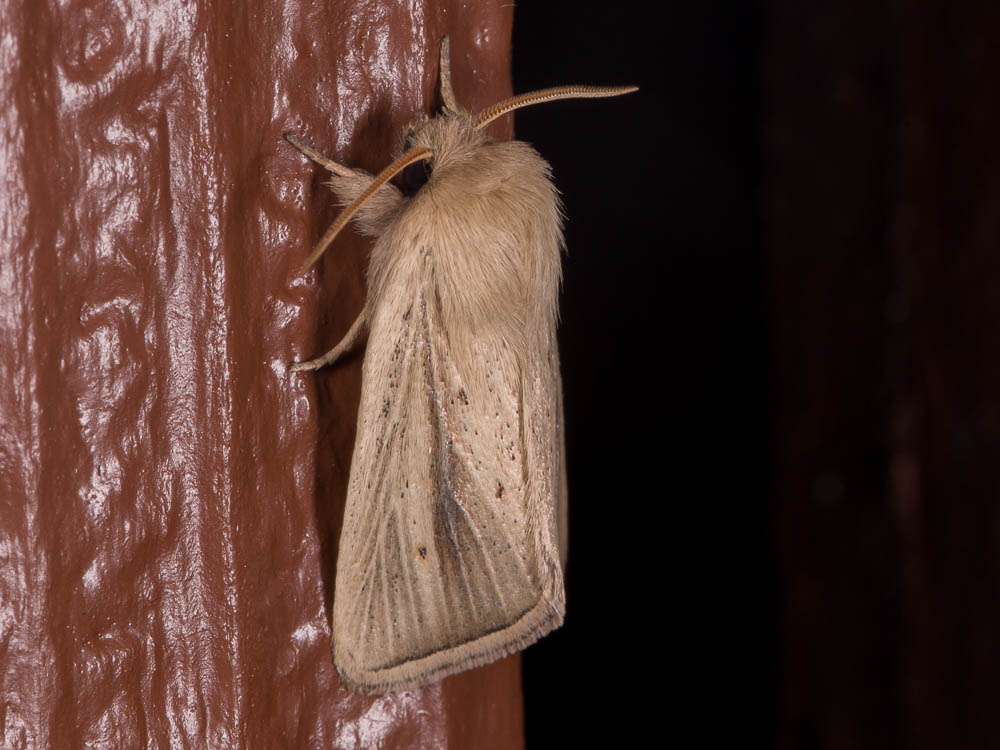Noctuidae: (282, 36, 644, 699)
